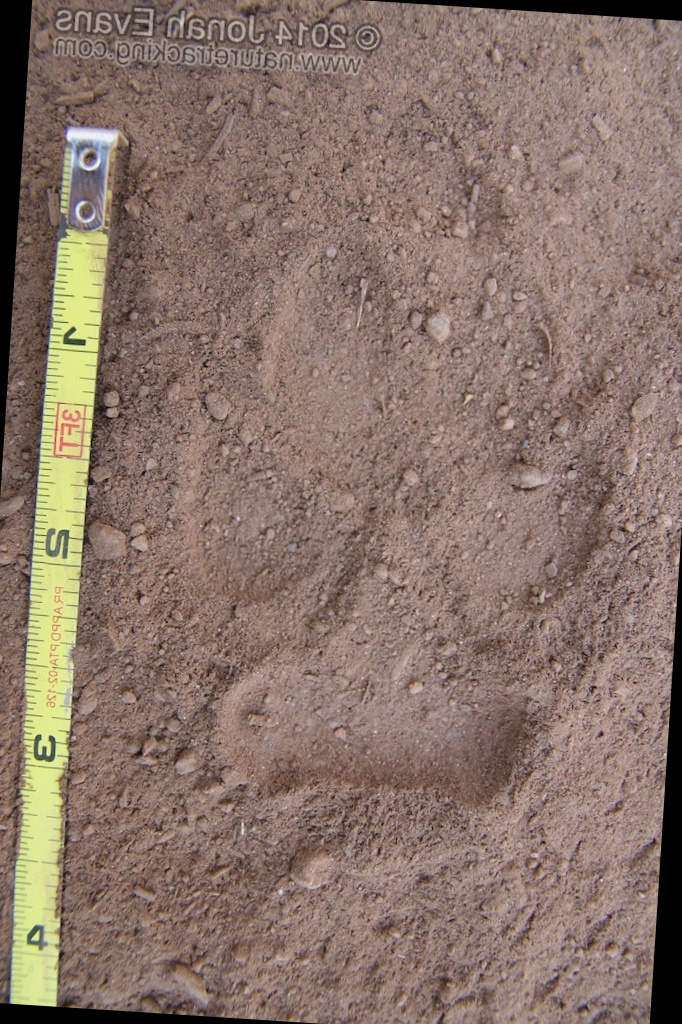coyote: (165, 218, 634, 819)
